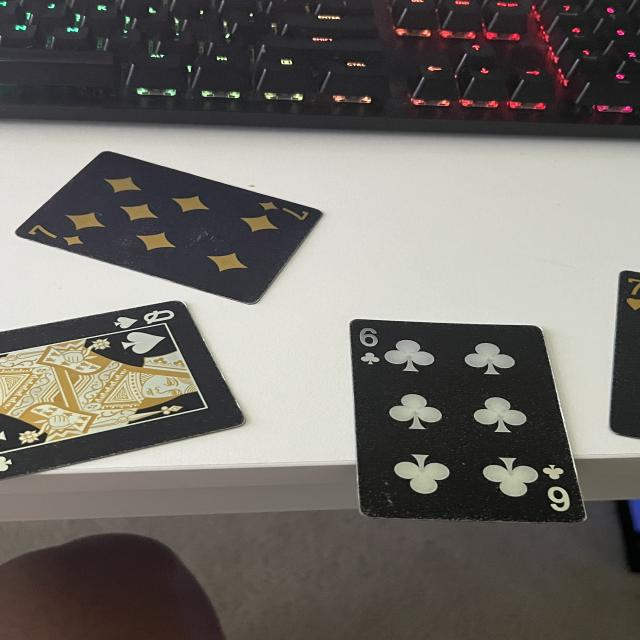6C: (532, 458, 579, 513), (355, 326, 386, 368)
7D: (21, 220, 90, 252), (257, 194, 317, 224)
7H: (617, 271, 640, 312)
QS: (106, 306, 182, 330)
